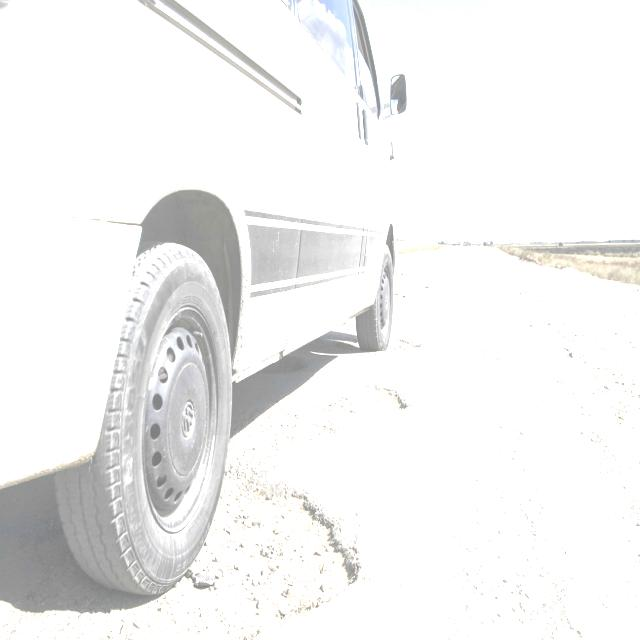Pothole: (137, 371, 414, 640)
